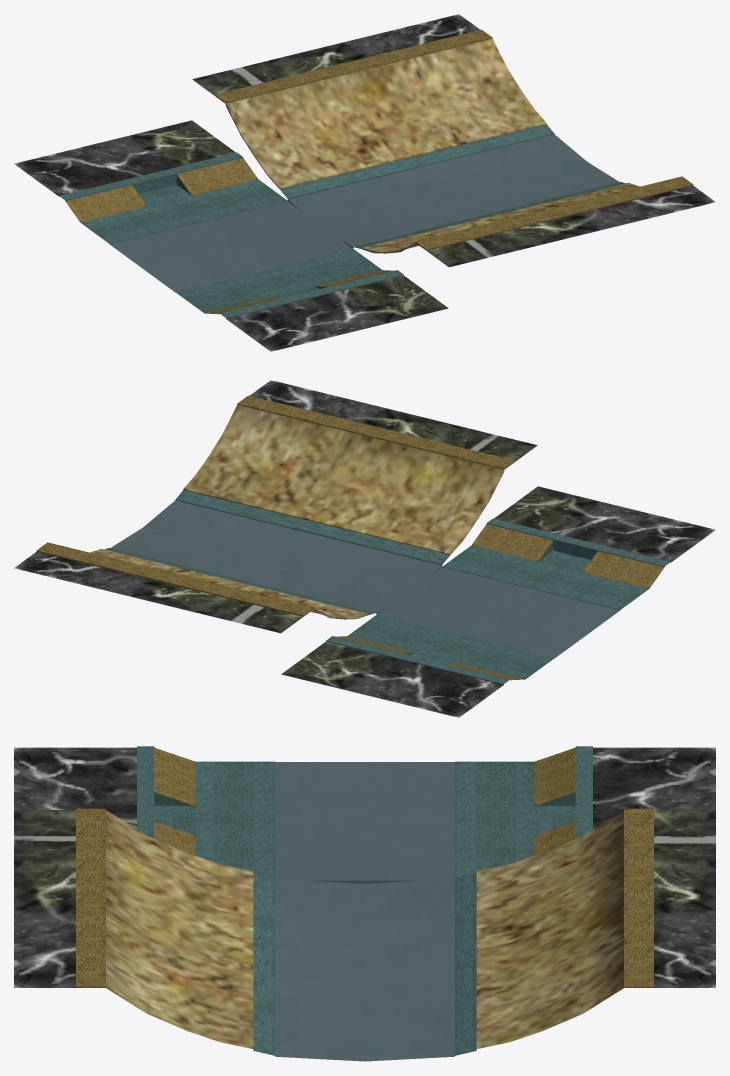
3 views of the same model, one above another, from view 1: azimuth 30°, elevation 25°; view 2: azimuth 150°, elevation 25°; view 3: azimuth 270°, elevation 25° (orthographic). The views are drawn at different scales.
Visible parts, largest first — view 1: Joint_0_Object_5, Joint_0_Object_0, Joint_0_Object_13, Joint_0_Object_12, Joint_0_Object_17, Joint_0_Object_16, Joint_0_Object_7, Joint_0_Object_9, Joint_0_Object_8, Joint_0_Object_3, Joint_0_Object_11, Joint_0_Object_15 (+2 smaller); view 2: Joint_0_Object_6, Joint_0_Object_0, Joint_0_Object_13, Joint_0_Object_7, Joint_0_Object_16, Joint_0_Object_17, Joint_0_Object_12, Joint_0_Object_9, Joint_0_Object_3, Joint_0_Object_8, Joint_0_Object_11, Joint_0_Object_15 (+2 smaller); view 3: Joint_0_Object_5, Joint_0_Object_6, Joint_0_Object_0, Joint_0_Object_13, Joint_0_Object_12, Joint_0_Object_7, Joint_0_Object_3, Joint_0_Object_8, Joint_0_Object_9, Joint_0_Object_16, Joint_0_Object_17, Joint_0_Object_11 (+2 smaller).
Part boxes in pixels (x1,y1,x2,y2): Joint_0_Object_5: (225,39,546,188); Joint_0_Object_0: (110,201,352,292); Joint_0_Object_13: (81,175,381,313); Joint_0_Object_12: (288,134,586,226); Joint_0_Object_17: (226,275,448,351); Joint_0_Object_16: (14,120,235,196); Joint_0_Object_7: (323,162,618,247); Joint_0_Object_9: (215,29,693,250); Joint_0_Object_8: (426,185,715,267); Joint_0_Object_3: (192,14,479,95); Joint_0_Object_11: (280,124,625,248); Joint_0_Object_15: (65,158,393,314); Joint_0_Object_6: (183,405,504,554); Joint_0_Object_0: (377,567,619,658); Joint_0_Object_13: (348,541,648,679); Joint_0_Object_7: (143,500,441,592); Joint_0_Object_16: (281,641,503,717); Joint_0_Object_17: (494,486,715,562); Joint_0_Object_12: (111,528,406,613); Joint_0_Object_9: (37,395,515,615); Joint_0_Object_3: (14,551,303,633); Joint_0_Object_8: (250,380,537,461); Joint_0_Object_11: (104,490,449,614); Joint_0_Object_15: (336,524,664,680); Joint_0_Object_5: (476,810,623,1048); Joint_0_Object_6: (106,810,253,1048); Joint_0_Object_0: (275,762,454,880); Joint_0_Object_13: (154,761,575,877); Joint_0_Object_12: (365,878,454,1061); Joint_0_Object_7: (275,878,364,1061); Joint_0_Object_3: (654,810,715,987); Joint_0_Object_8: (14,810,75,987); Joint_0_Object_9: (76,808,653,987); Joint_0_Object_16: (593,747,715,829); Joint_0_Object_17: (14,747,136,829); Joint_0_Object_11: (253,873,476,1055).
Bounding box in the file's own units: 10000 × 1179 × 10000.
